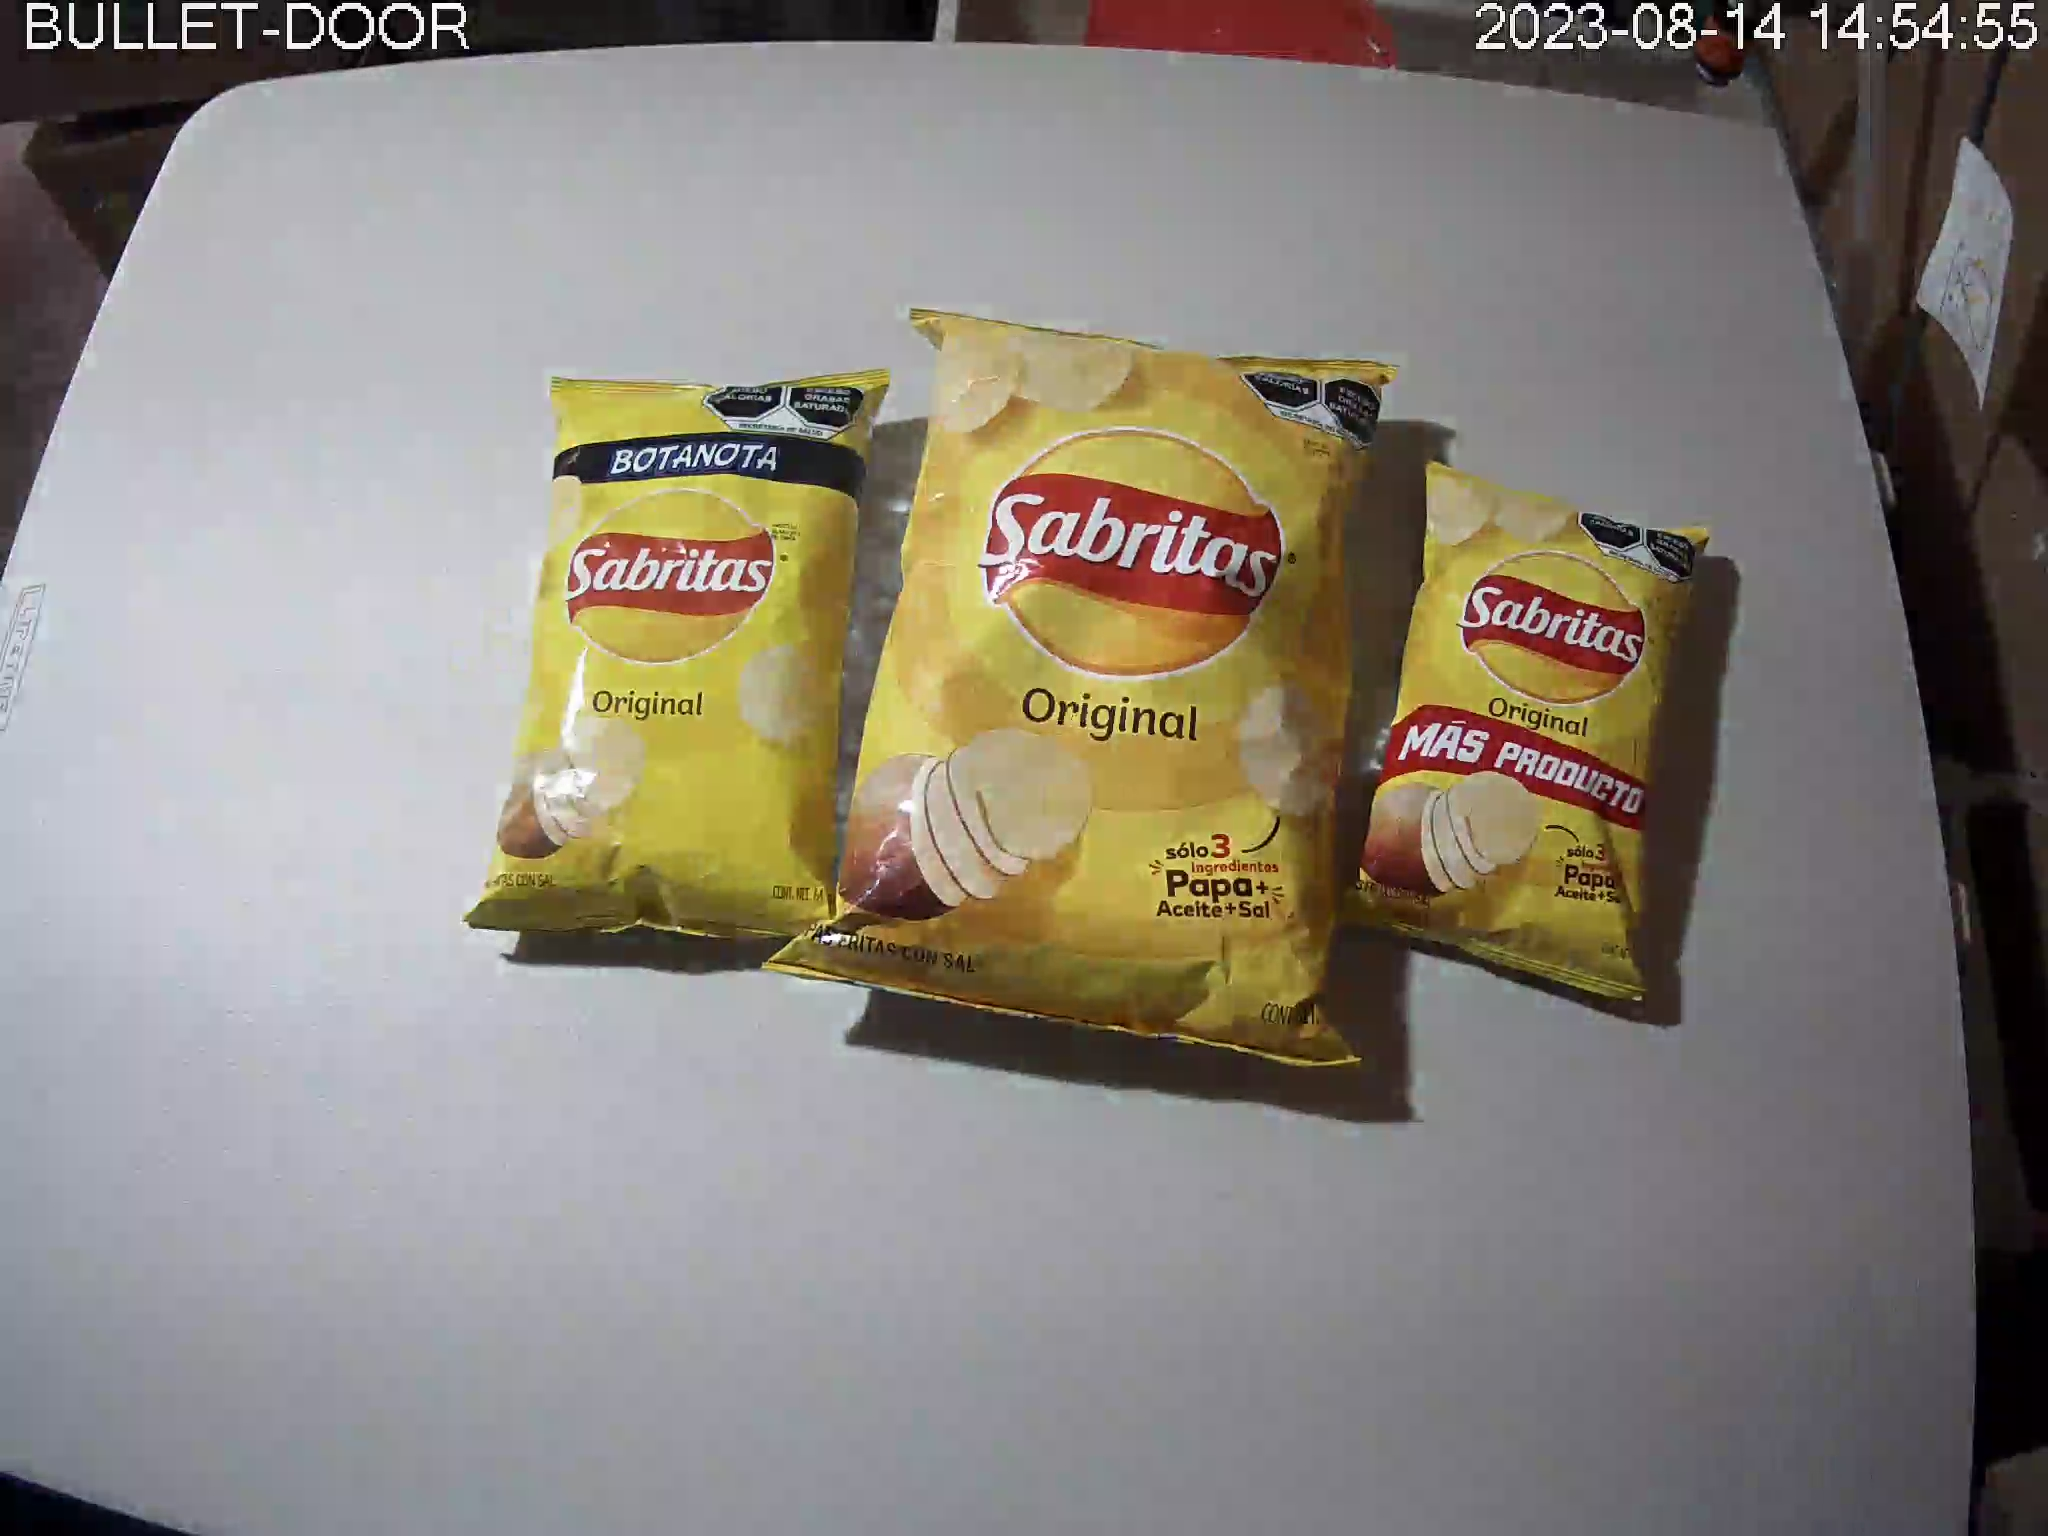Sabritas_160_F: (760, 308, 1400, 1071)
Sabritas_45_F: (1329, 457, 1709, 1004)
Sabritas_64_F: (460, 365, 901, 947)
